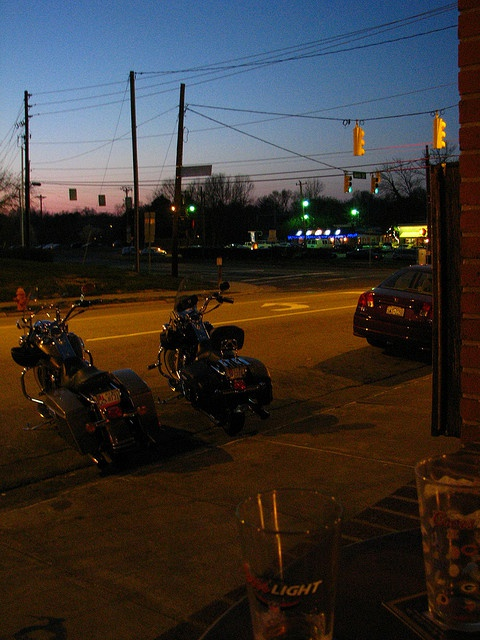non-vehicle: (5, 285, 162, 470), (148, 279, 276, 439)
